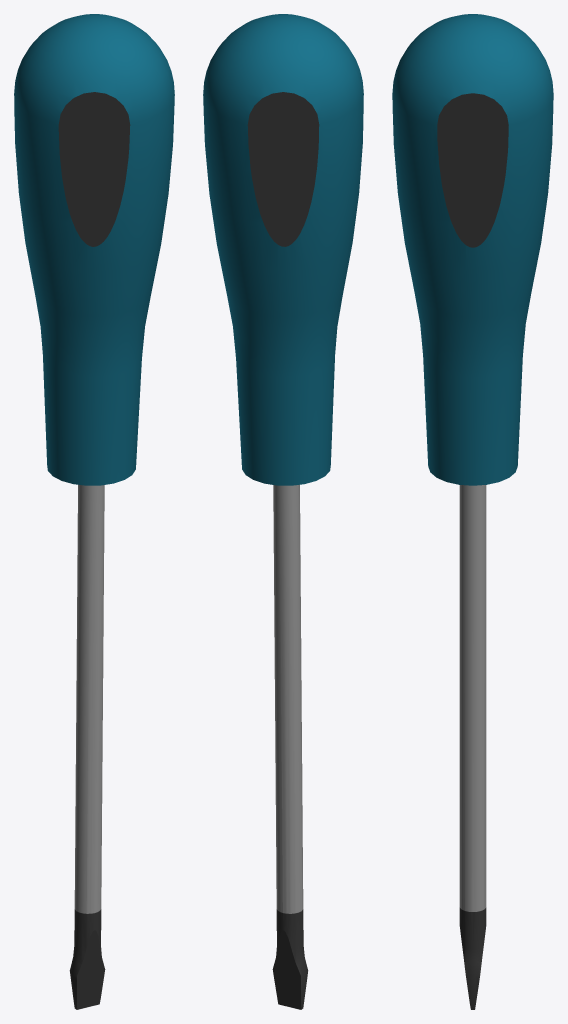
File: LuoSiDao_YiZi_M.FBX
3 views of the same model, side by side, from view 1: azimuth 30°, elevation 25°; view 2: azimuth 150°, elevation 25°; view 3: azimuth 270°, elevation 25° (orthographic).
Parts seen in each view (by area): view 1: LuoSiDao_YiZi_M; view 2: LuoSiDao_YiZi_M; view 3: LuoSiDao_YiZi_M.
Boxes of the visible parts, left/top/right/bottom form: LuoSiDao_YiZi_M: left=14, top=14, right=174, bottom=1009; LuoSiDao_YiZi_M: left=203, top=14, right=363, bottom=1009; LuoSiDao_YiZi_M: left=392, top=14, right=553, bottom=1009.
Bounding box in the file's own units: 2.21 × 15.73 × 2.33.
